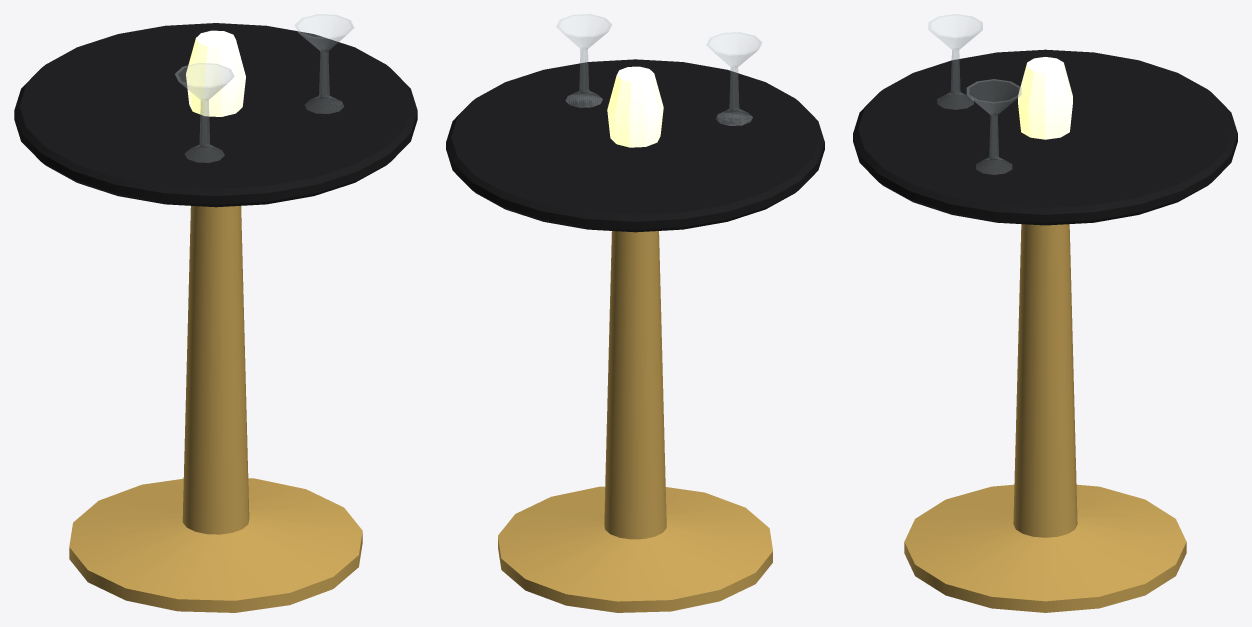
File: tideline_cocktail_table.glb
3 renders of one model, left to right at view 1: azimuth 30°, elevation 25°; view 2: azimuth 150°, elevation 25°; view 3: azimuth 270°, elevation 25°, orthographic. The views are drawn at different scales.
Parts seen in each view (by area): view 1: tideline_cocktail_table; view 2: tideline_cocktail_table; view 3: tideline_cocktail_table.
Boxes of the visible parts, x1=… form: tideline_cocktail_table: x1=14, y1=14, x2=417, y2=612; tideline_cocktail_table: x1=446, y1=14, x2=824, y2=612; tideline_cocktail_table: x1=853, y1=14, x2=1237, y2=612.
Size of the model in its own units: 0.6 by 0.86 by 0.6.
